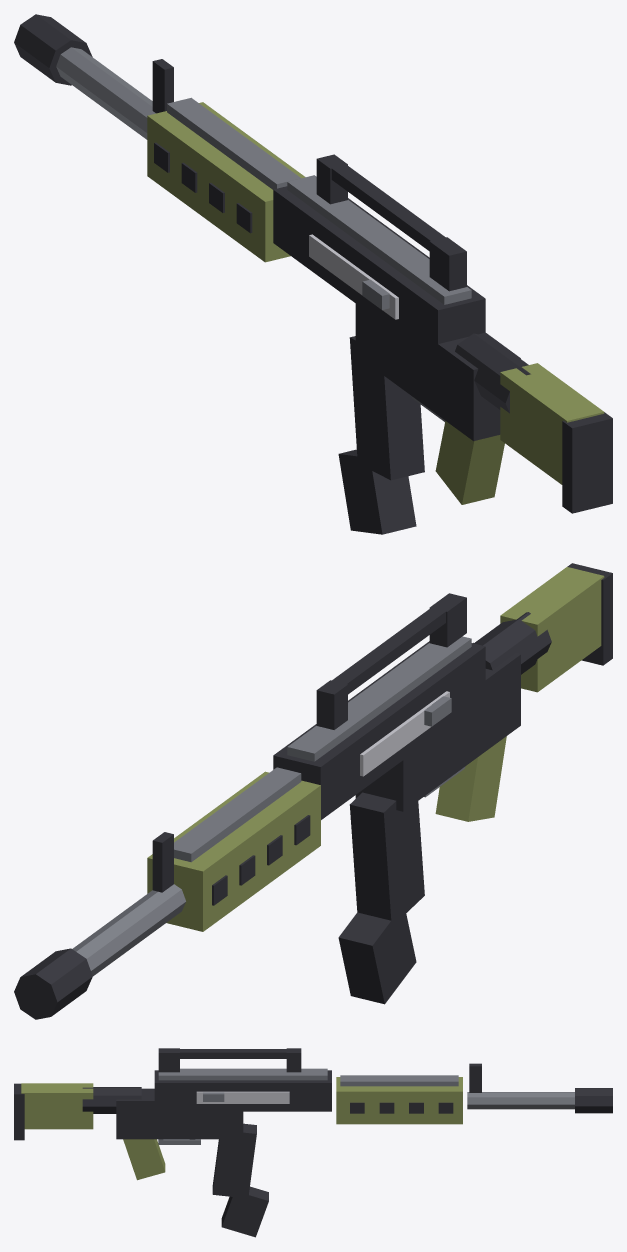
Rendered from rifle.glb.
The picture shows the model from 3 angles, top to bottom: view 1: azimuth 30°, elevation 25°; view 2: azimuth 150°, elevation 25°; view 3: azimuth 270°, elevation 25°; orthographic projection. The views are drawn at different scales.
Visible parts, largest first — view 1: Rifle; view 2: Rifle; view 3: Rifle.
Boxes of the visible parts, left/top/right/bottom form: Rifle: left=14, top=14, right=612, bottom=534; Rifle: left=14, top=563, right=612, bottom=1019; Rifle: left=14, top=1048, right=612, bottom=1237.
Bounding box in the file's own units: 0.102 × 0.4758 × 1.42.
